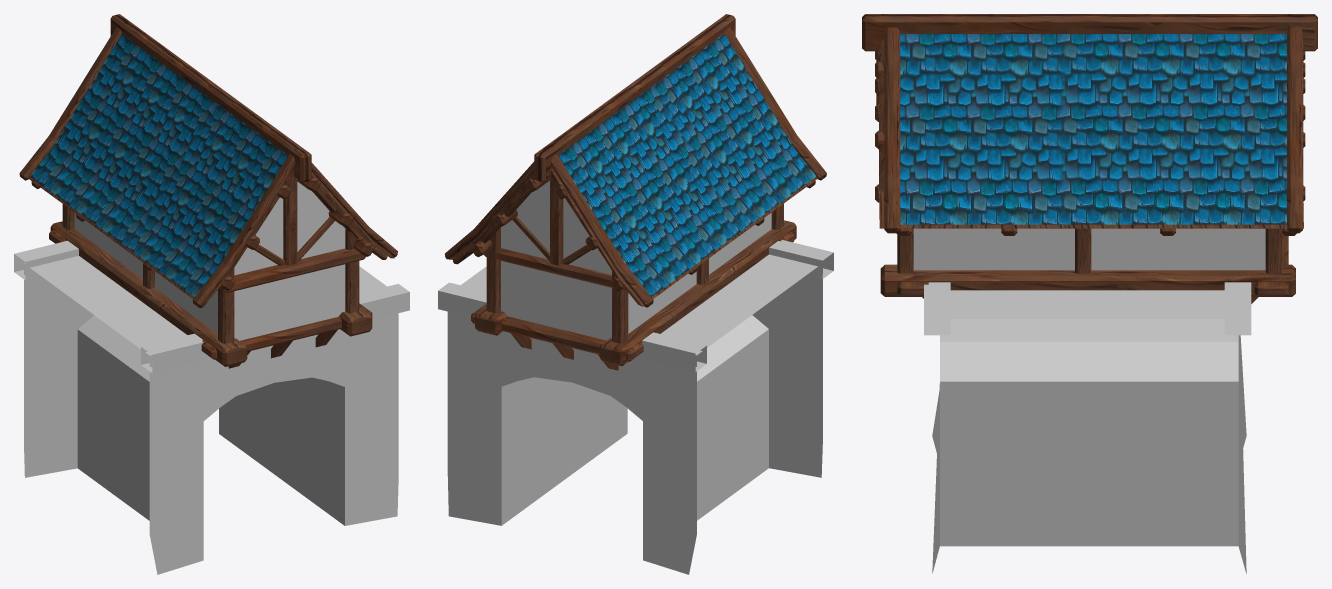
Rendered from EnterCenter.fbx.
3 renders of one model, left to right at view 1: azimuth 30°, elevation 25°; view 2: azimuth 150°, elevation 25°; view 3: azimuth 270°, elevation 25°, orthographic. The views are drawn at different scales.
Visible parts, largest first — view 1: Enter.006, Cube.064, Enter.093; view 2: Enter.006, Cube.064, Enter.093; view 3: Enter.006, Cube.064, Enter.093.
Part boxes in pixels (x1,y1,x2,y2): Enter.006: (14,181,409,574); Cube.064: (29,14,394,304); Enter.093: (19,27,397,368); Enter.006: (438,180,833,574); Cube.064: (449,14,816,306); Enter.093: (445,27,826,370); Enter.006: (913,228,1265,573); Cube.064: (862,14,1317,228); Enter.093: (876,27,1302,303).
Size of the model in its own units: 893 by 1368 by 1154.
